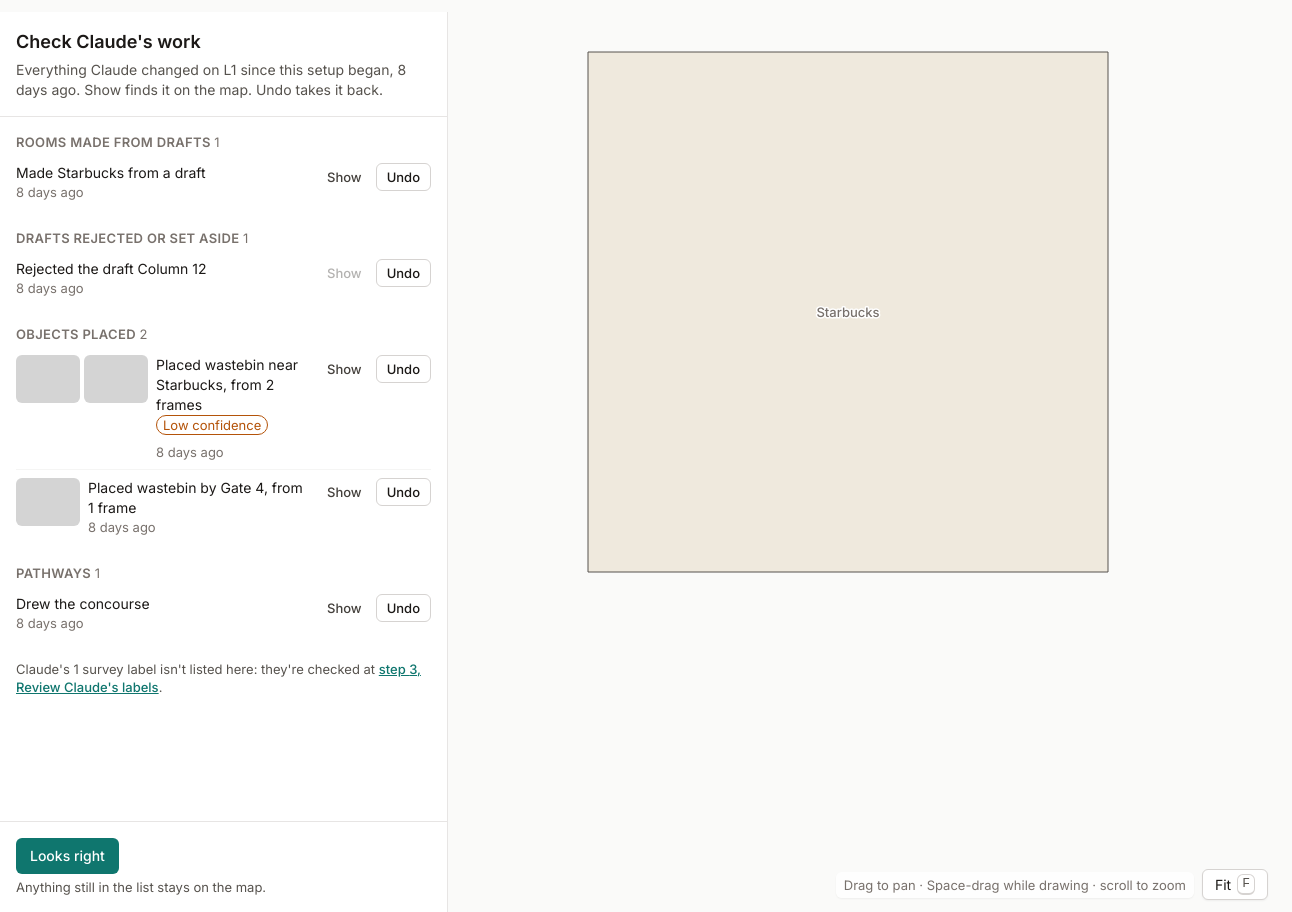
Test: CheckStep › Undo takes a change back, says so, and reloads the map
Click the button with aria-label "Undo: Made Starbucks from a draft".
click(403, 177)  # box [376,163,431,191]
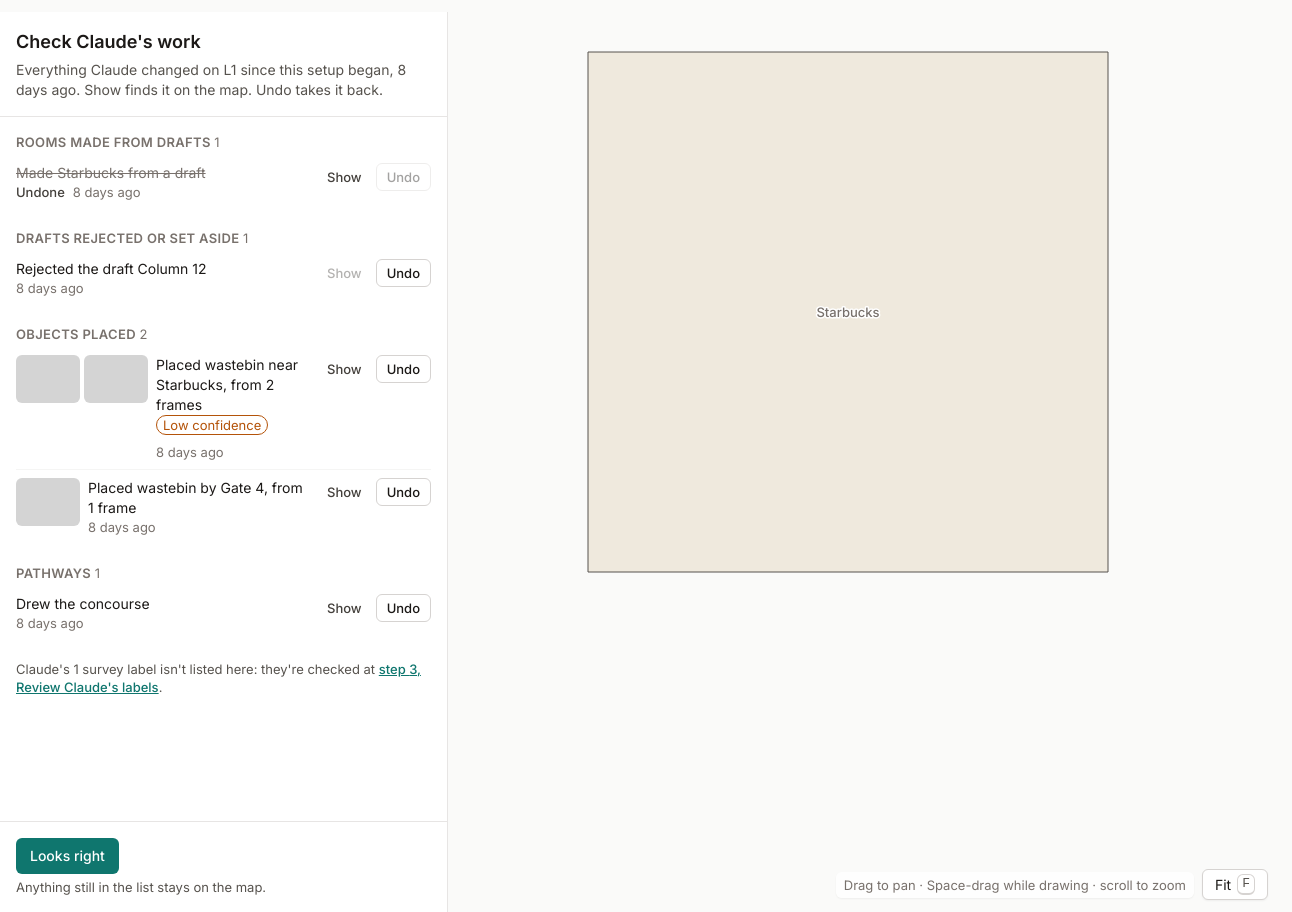
Result: the text "Undone" is shown at [16,183,65,201]
Result: the button "Undo" in the row of "Made Starbucks from a draft" is disabled at [376,163,431,191]
